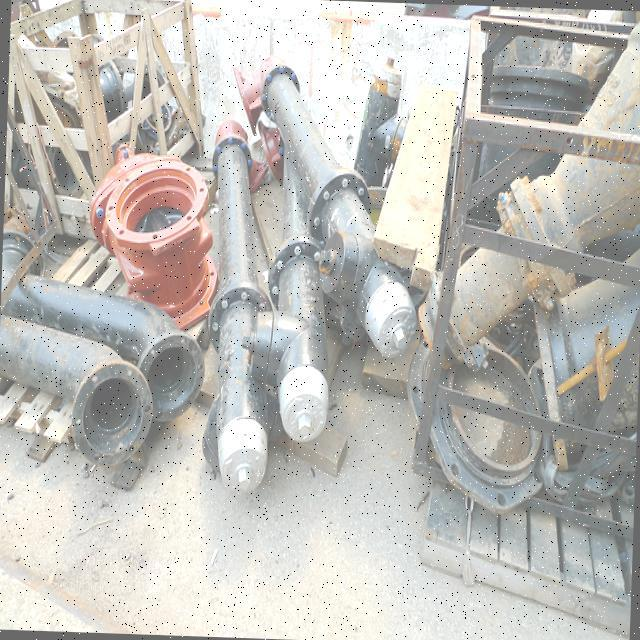fire_hydrant: (223, 49, 430, 365), (199, 118, 283, 494), (235, 142, 338, 448), (352, 52, 408, 186)
